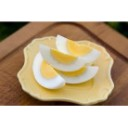begg: (40, 43, 89, 71)
